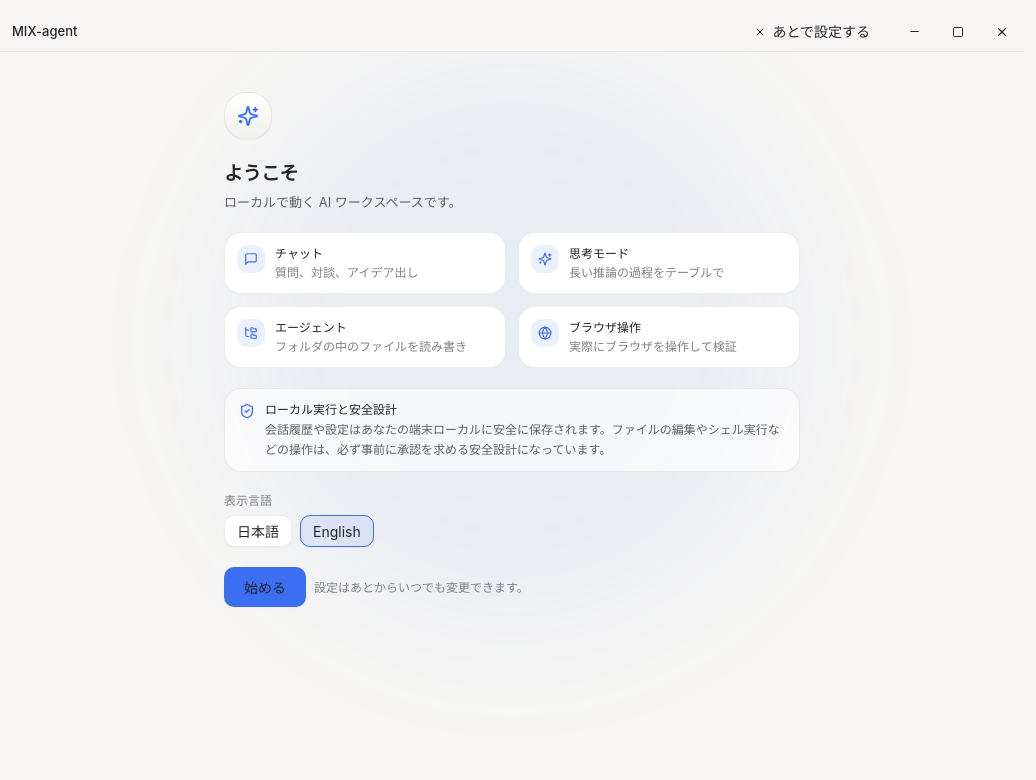
Test: Onboarding › opens on the welcome page, and numbers the steps only after it
Expected: the heading "ようこそ" is shown, [224,162,298,185]
Click the button "始める".
click(265, 587)  # box [224,567,306,607]
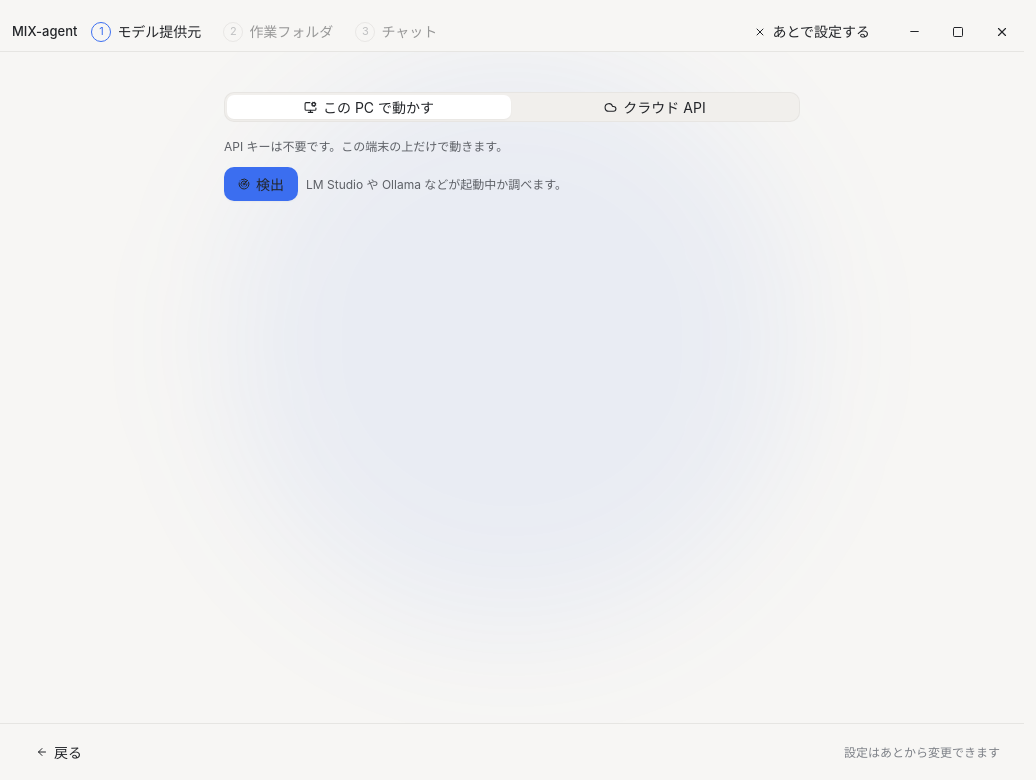
Now the radio button with test id "onboarding-provider-tab-local" is shown, box [227,95,511,119]
Now the button with test id "onboarding-step-provider" is shown, box [83,16,209,48]
